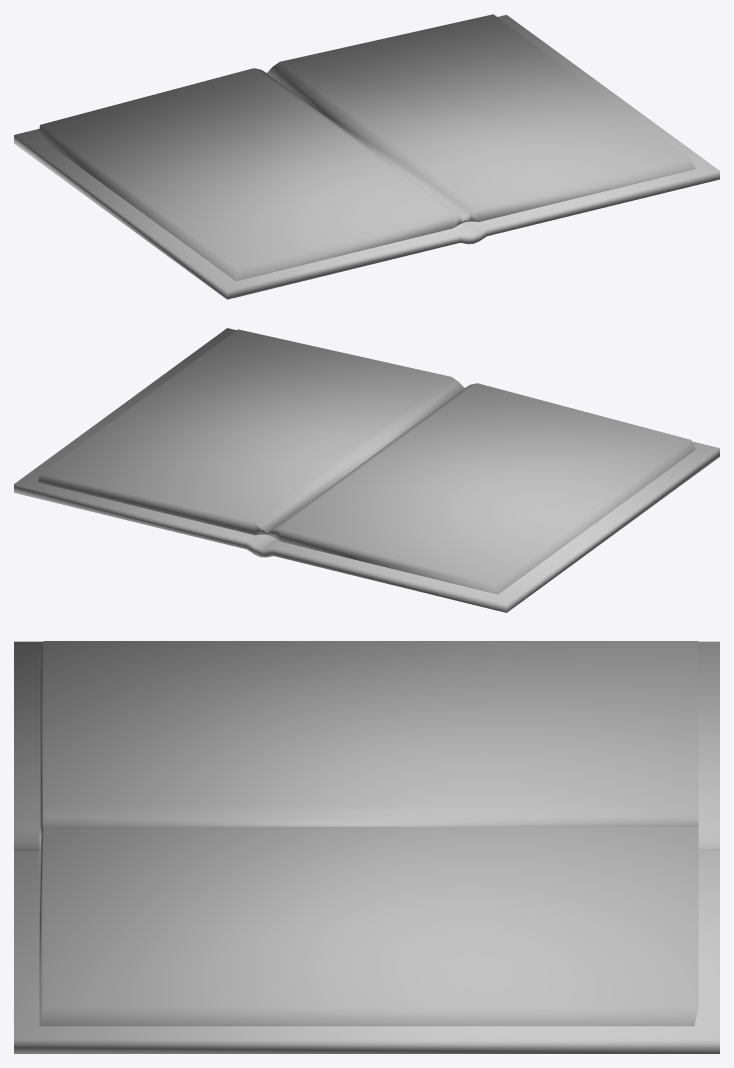
File: BookCover(Open).fbx
3 views of the same model, one above another, from view 1: azimuth 30°, elevation 25°; view 2: azimuth 150°, elevation 25°; view 3: azimuth 270°, elevation 25° (orthographic). The views are drawn at different scales.
Visible parts, largest first — view 1: BookCover(Open); view 2: BookCover(Open); view 3: BookCover(Open).
Boxes of the visible parts, x1=… form: BookCover(Open): x1=14, y1=14, x2=719, y2=299; BookCover(Open): x1=14, y1=328, x2=719, y2=612; BookCover(Open): x1=14, y1=641, x2=719, y2=1053.
Size of the model in its own units: 60 by 3.2 by 45.
